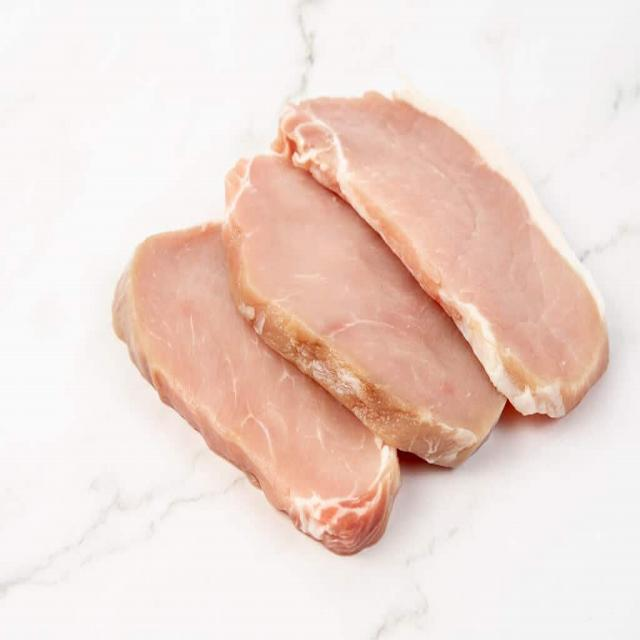pork: (108, 197, 404, 570), (273, 89, 608, 415), (212, 132, 511, 473)
